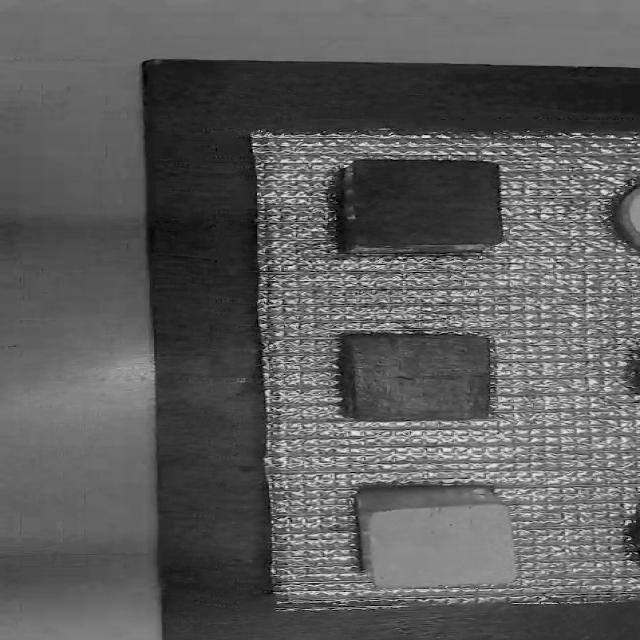bcube: (325, 323, 523, 441)
rcube: (326, 158, 520, 266)
ycube: (336, 484, 536, 594)
